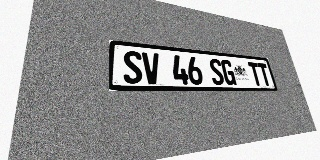4: (171, 55, 189, 85)
6: (186, 56, 204, 85)
G: (220, 59, 237, 85)
S: (123, 50, 143, 84), (208, 58, 225, 85)
T: (248, 62, 263, 86), (257, 63, 272, 86)
V: (142, 52, 161, 84)
